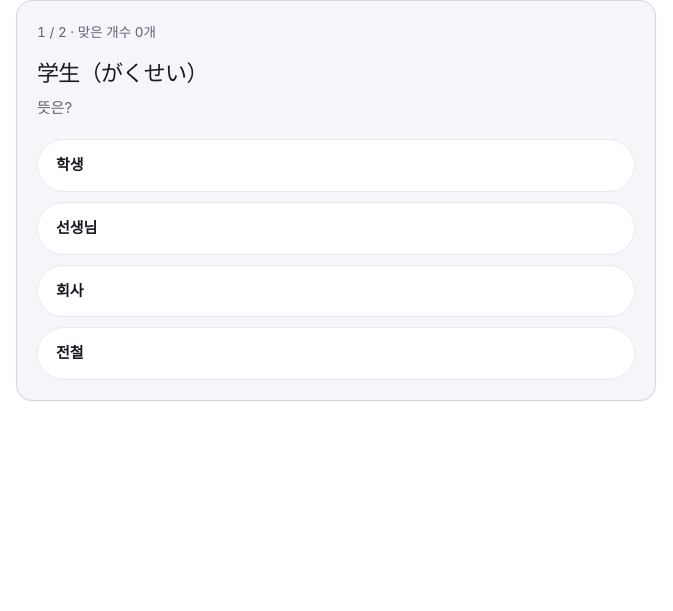
Test: 문제 화면 (Q9~Q12) › 오답이면 정답 보기가 함께 표시된다 (Q9)
Click the button "회사": (70, 290) top-left (37, 264), bottom-right (635, 317)
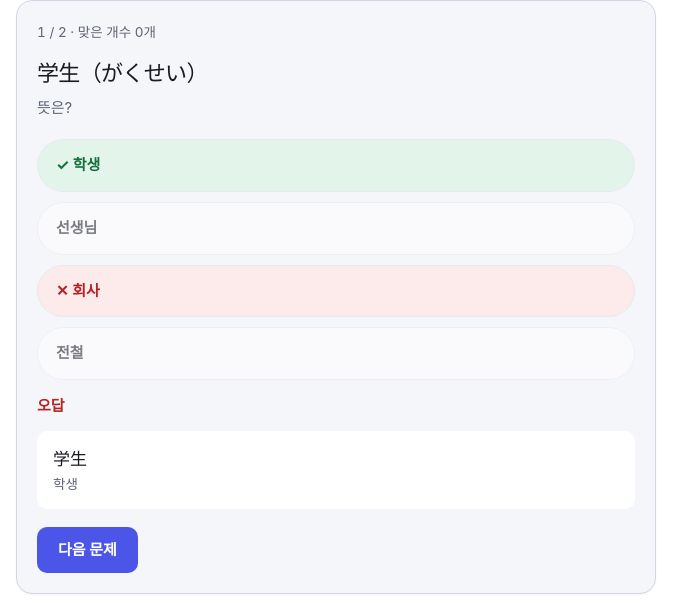
Check: the text "오답" is shown, box top-left (37, 396), bottom-right (65, 415)
